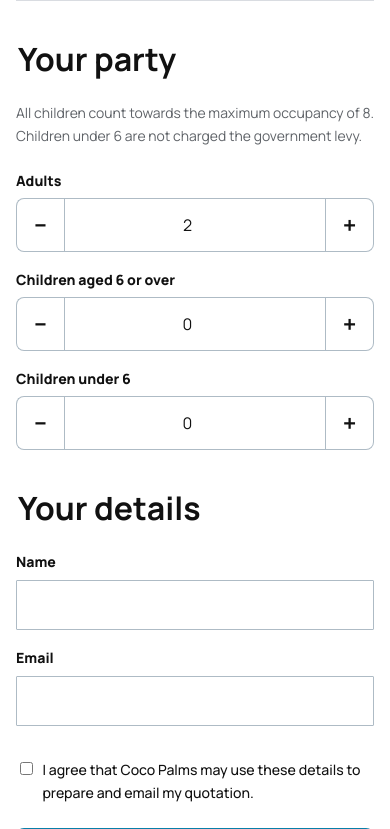
Scenario: QuoteForm › lets mobile users adjust every party number with explicit buttons
(page scrolled)
Expected: the button named "Decrease Adults" is shown, [16,198,64,252]
Expected: the button named "Increase Adults" is shown, [326,198,374,252]
Click the button named "Increase Children under 6" at (350, 423), box [326,396,374,450]
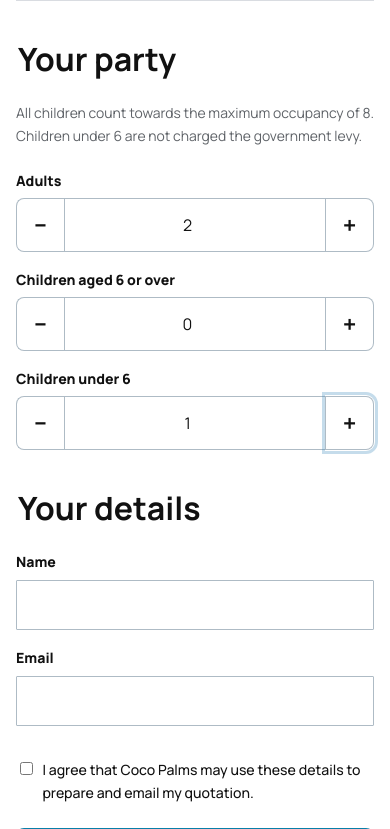
Now the number field labelled "Children under 6" holds "1", box [64,396,326,450]
